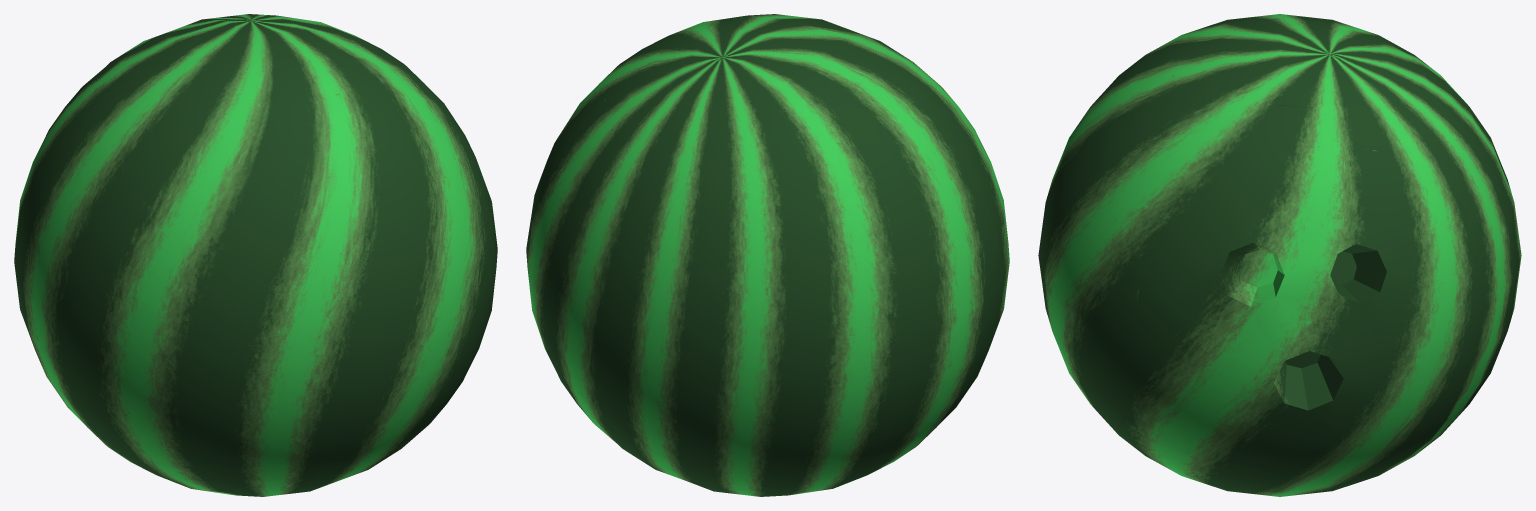
File: Watermellon ball.fbx
3 views of the same model, side by side, from view 1: azimuth 30°, elevation 25°; view 2: azimuth 150°, elevation 25°; view 3: azimuth 270°, elevation 25° (orthographic).
Parts seen in each view (by area): view 1: Cube; view 2: Cube; view 3: Cube.
Boxes of the visible parts, bbox=[...] form: Cube: bbox=[14, 14, 497, 496]; Cube: bbox=[526, 14, 1009, 496]; Cube: bbox=[1038, 14, 1521, 496].
Bounding box in the file's own units: 64.35 × 64.5 × 64.5.
Materials: 1 (1 with a texture image).
